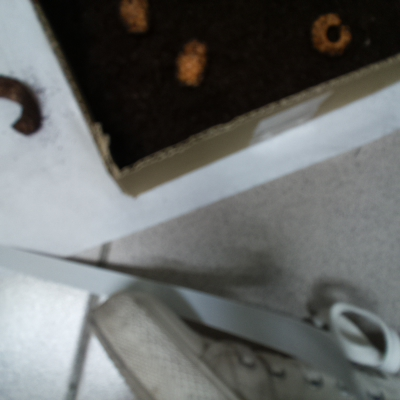eggs: (304, 10, 354, 58), (168, 38, 209, 92), (114, 1, 154, 38)
